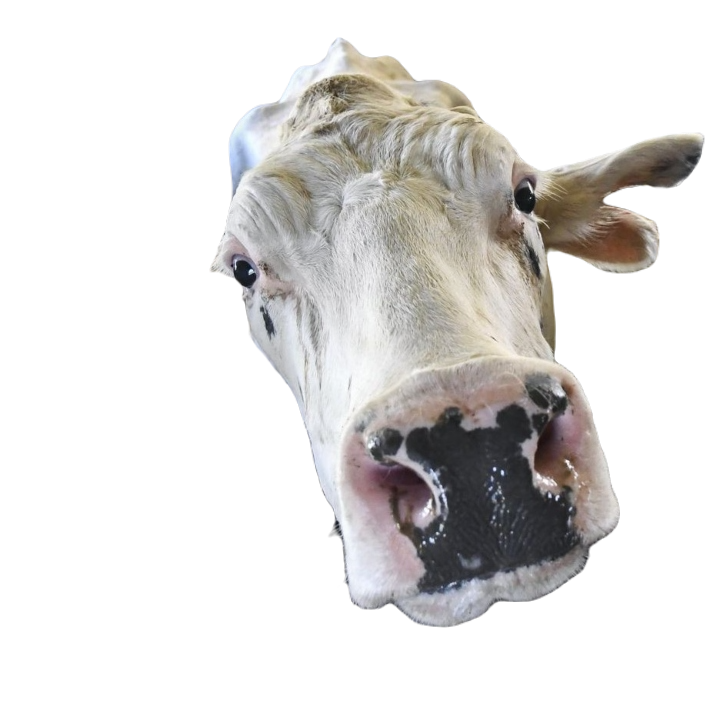Cow: (204, 35, 708, 628)
